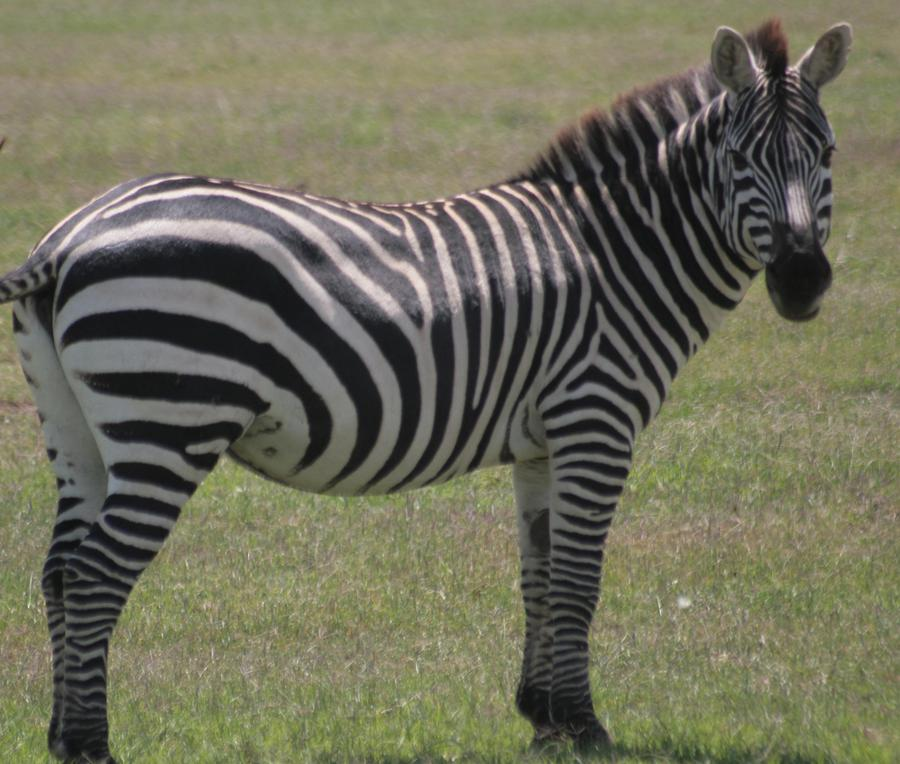zebra_plains: (82, 174, 689, 496)
